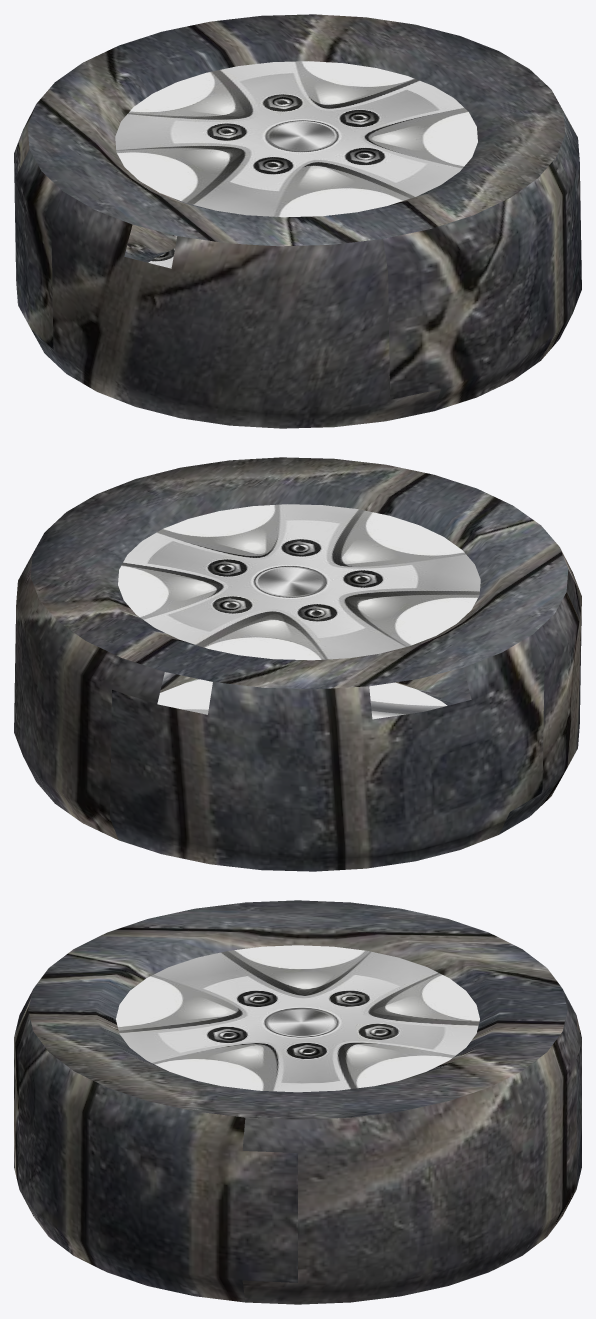
File: Llanta2.fbx
3 views of the same model, one above another, from view 1: azimuth 30°, elevation 25°; view 2: azimuth 150°, elevation 25°; view 3: azimuth 270°, elevation 25° (orthographic).
Parts seen in each view (by area): view 1: Llanta2; view 2: Llanta2; view 3: Llanta2.
Boxes of the visible parts, x1,y1,x2,y2 form: Llanta2: [14, 14, 581, 428]; Llanta2: [14, 457, 581, 871]; Llanta2: [14, 900, 581, 1304].
Bounding box in the file's own units: 80.34 × 29.83 × 80.
